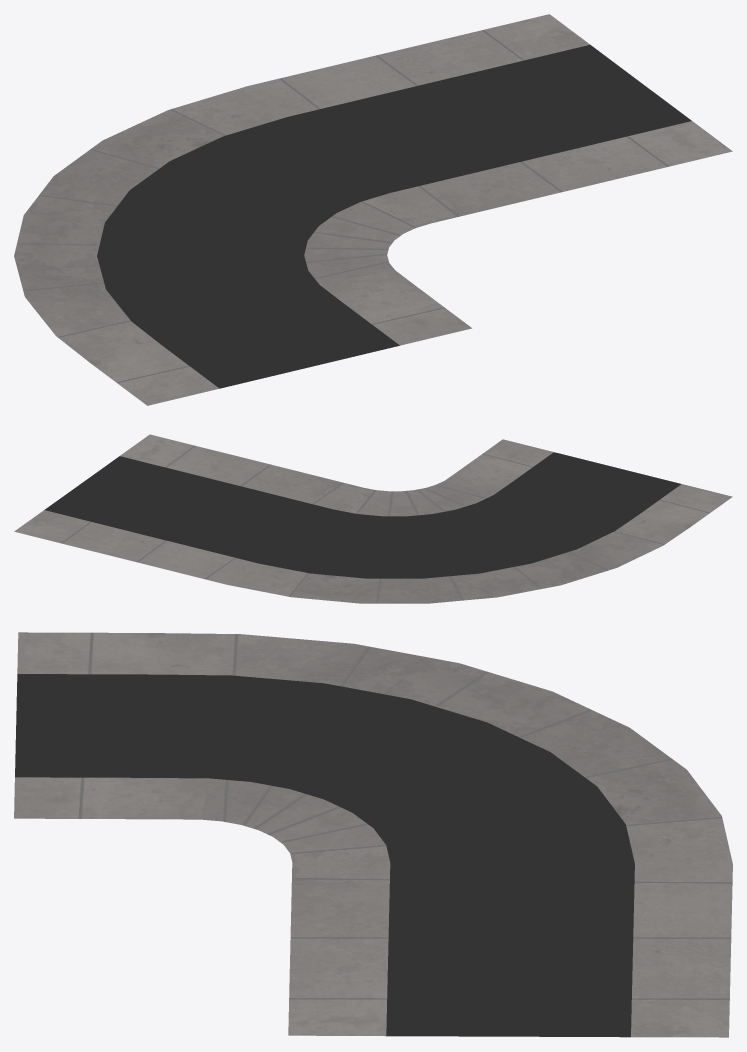
The model's file is Curved_Road_Flat 1.fbx.
The picture shows the model from 3 angles, top to bottom: view 1: azimuth 30°, elevation 25°; view 2: azimuth 150°, elevation 25°; view 3: azimuth 270°, elevation 25°; orthographic projection. The views are drawn at different scales.
Parts seen in each view (by area): view 1: Curved_Road001; view 2: Curved_Road001; view 3: Curved_Road001.
Boxes of the visible parts, x1,y1,x2,y2 form: Curved_Road001: [14, 14, 732, 405]; Curved_Road001: [14, 434, 732, 603]; Curved_Road001: [14, 632, 732, 1037].
Bounding box in the file's own units: 1232 × 924 × 0.1106.
